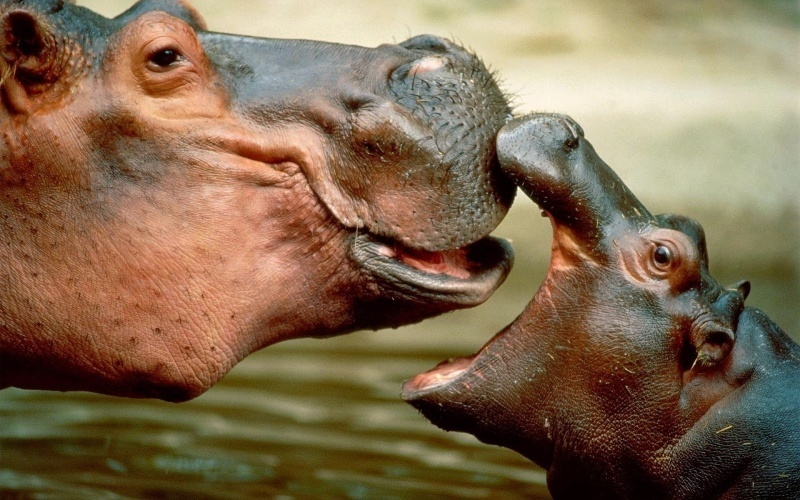hipopotamo: (0, 0, 513, 411), (408, 110, 800, 499)
